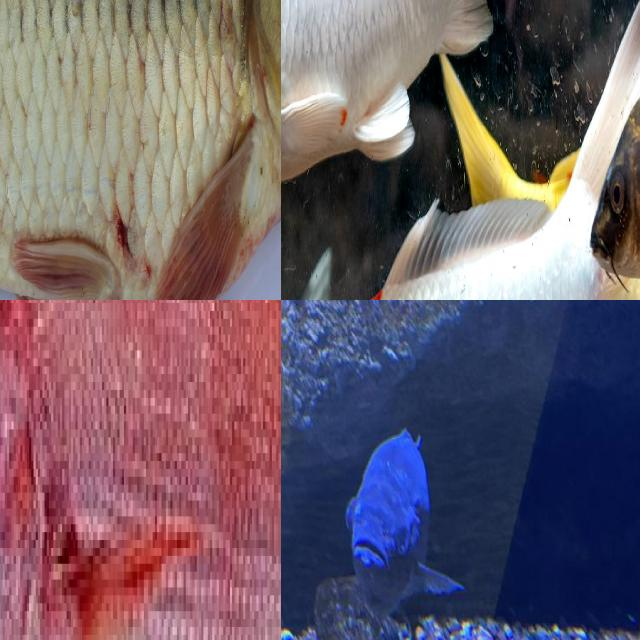fish: (0, 300, 281, 640), (0, 0, 281, 300), (338, 400, 459, 640)
